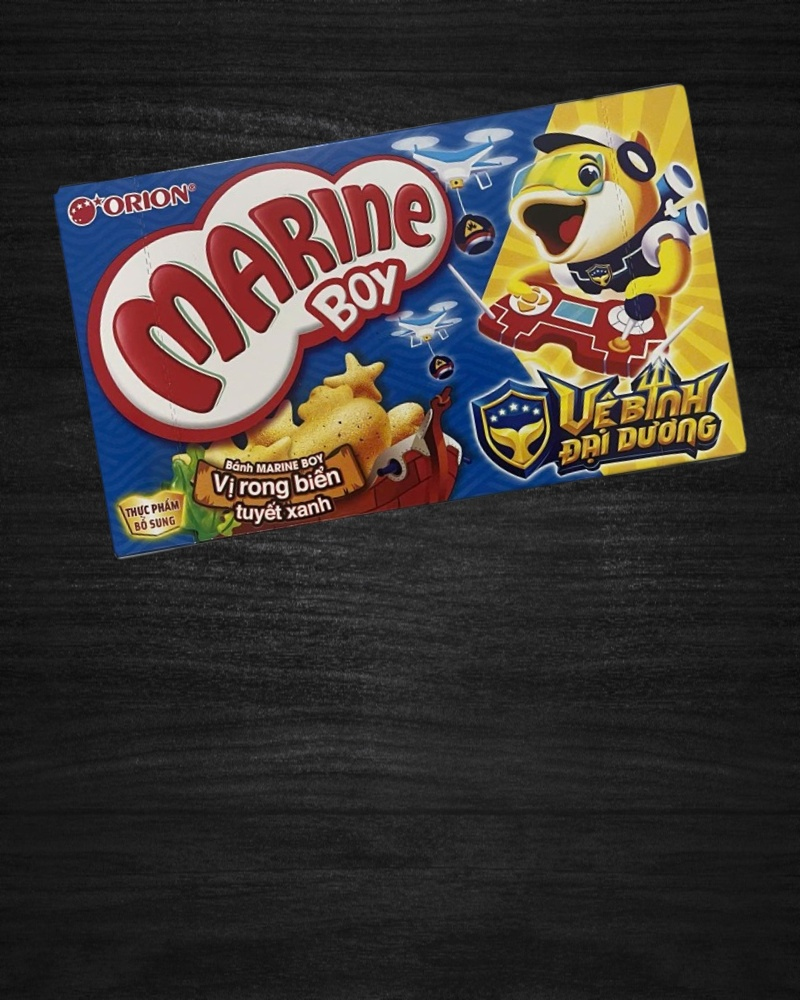Marine: (52, 77, 752, 566)
